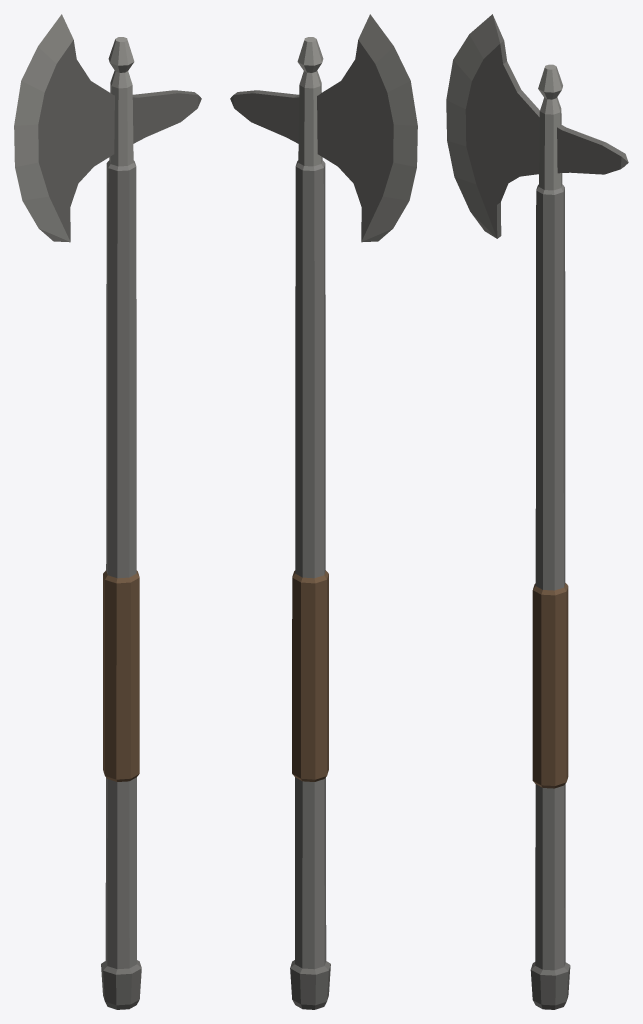
The model's file is SM_pwe_medieval_halberd_11.fbx.
The picture shows the model from 3 angles, left to right: view 1: azimuth 30°, elevation 25°; view 2: azimuth 150°, elevation 25°; view 3: azimuth 330°, elevation 25°; orthographic projection. The views are drawn at different scales.
Visible parts, largest first — view 1: SM_pwe_medieval_halberd_11; view 2: SM_pwe_medieval_halberd_11; view 3: SM_pwe_medieval_halberd_11.
Boxes of the visible parts, <box> form: SM_pwe_medieval_halberd_11: <box>14,14,201,1009</box>; SM_pwe_medieval_halberd_11: <box>230,14,417,1009</box>; SM_pwe_medieval_halberd_11: <box>446,14,628,1009</box>.
Size of the model in its own units: 30.08 by 154 by 5.87.
